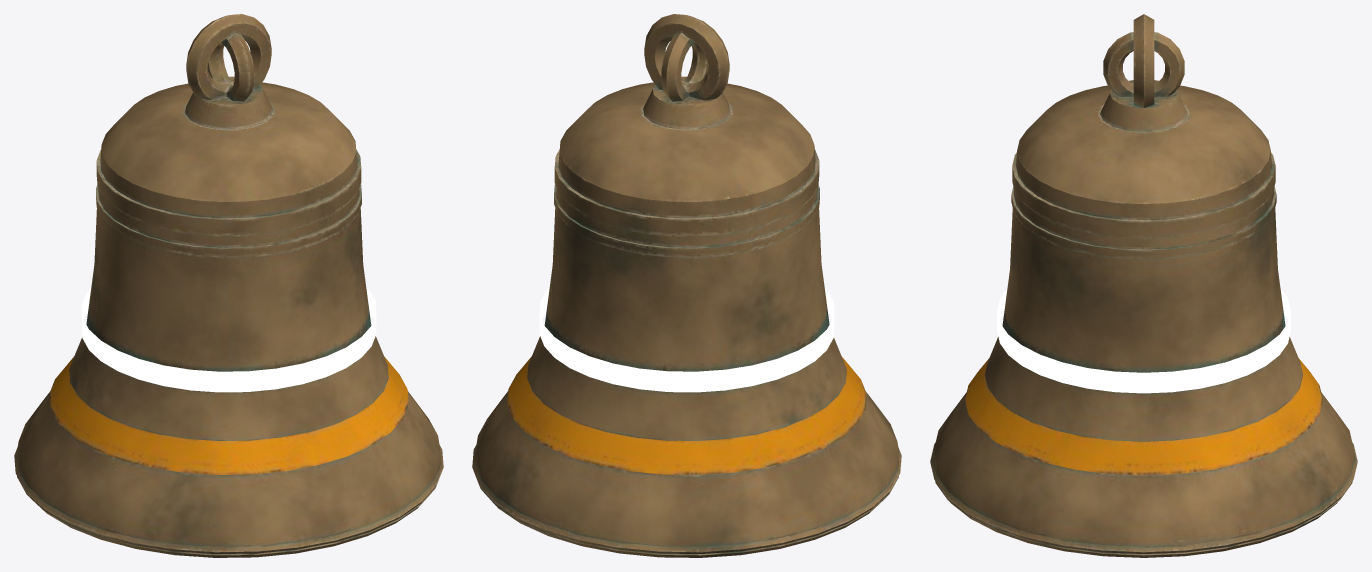
File: requiem_bell.glb
3 renders of one model, left to right at view 1: azimuth 30°, elevation 25°; view 2: azimuth 150°, elevation 25°; view 3: azimuth 270°, elevation 25°, orthographic.
Parts seen in each view (by area): view 1: Body, Band; view 2: Body, Band; view 3: Body, Band.
Boxes of the visible parts, left/top/right/bottom form: Body: left=14, top=14, right=443, bottom=557; Band: left=81, top=287, right=376, bottom=392; Body: left=472, top=14, right=901, bottom=557; Band: left=539, top=287, right=834, bottom=392; Body: left=930, top=14, right=1357, bottom=557; Band: left=997, top=289, right=1290, bottom=393.
Bounding box in the file's own units: 0.15 × 0.1747 × 0.15.
2 materials, 1 textured.
